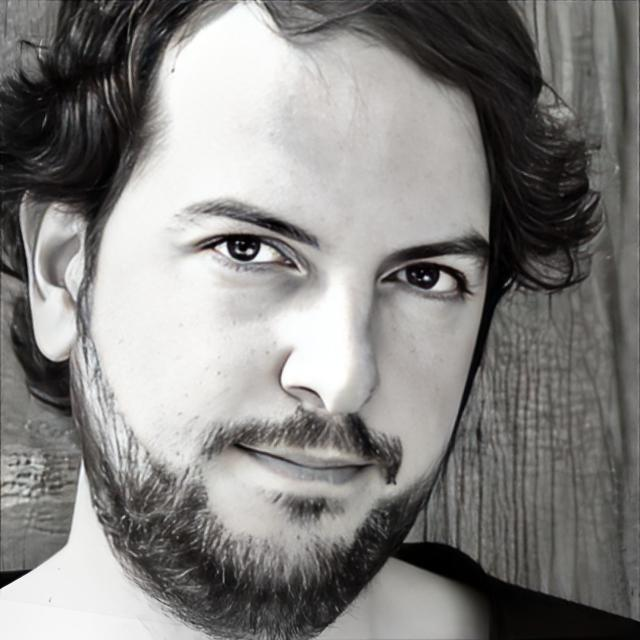content: (68, 0, 496, 640)
